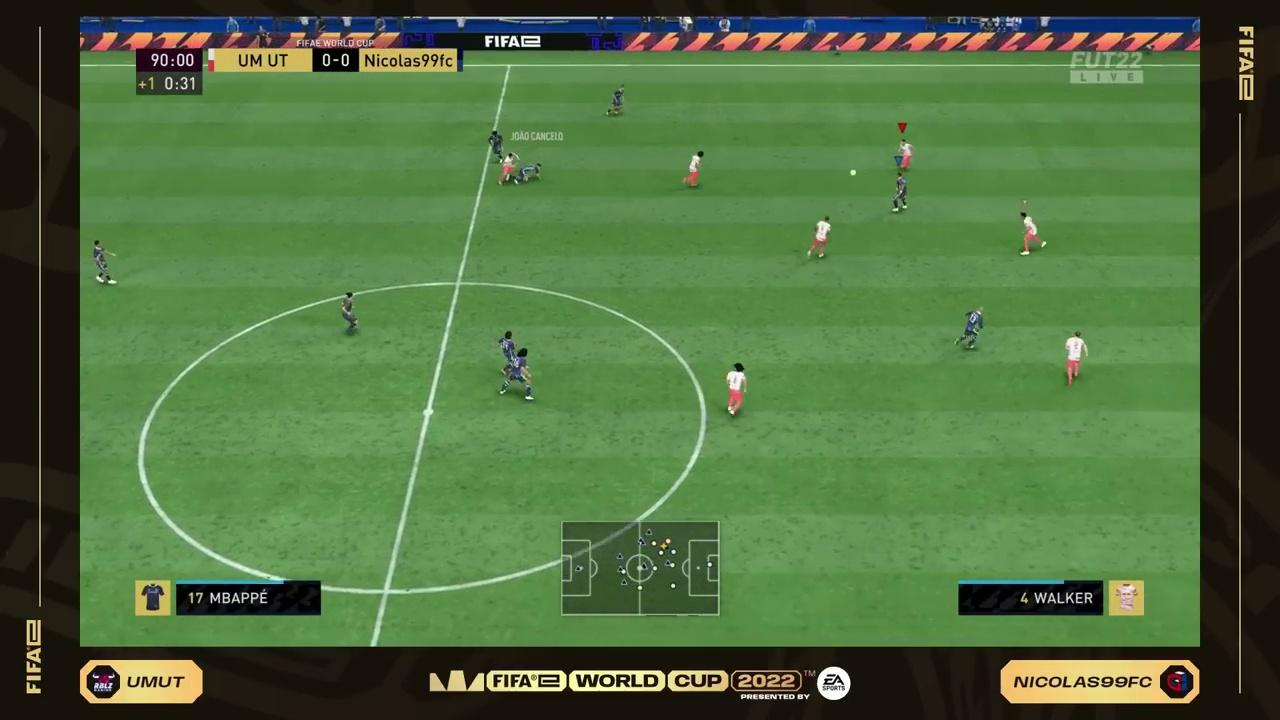scoreboard: (210, 47, 464, 76)
timestamp: (134, 49, 207, 99)
